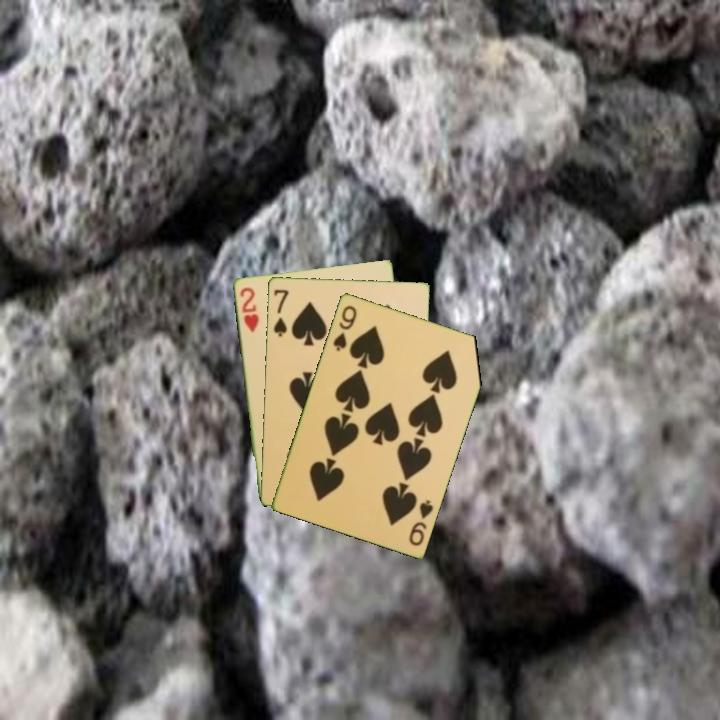2h: (236, 283, 261, 335)
7s: (270, 285, 291, 339)
9s: (405, 496, 436, 549), (329, 302, 360, 354)
